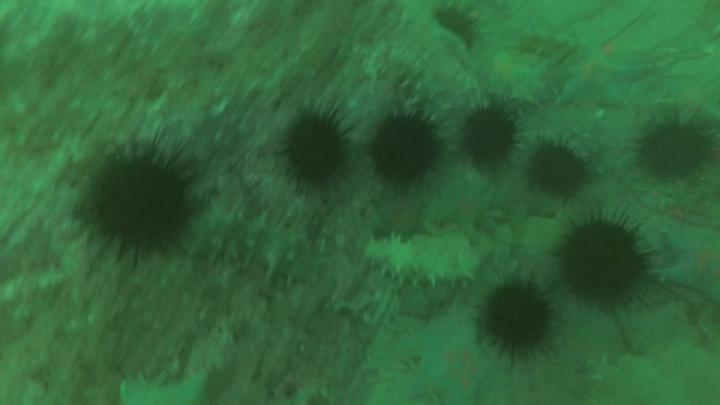echinus: (89, 154, 189, 257), (561, 219, 643, 303), (374, 114, 443, 185), (484, 283, 552, 351), (641, 118, 711, 179), (286, 119, 345, 184), (464, 108, 517, 163), (530, 143, 585, 194)
holothurian: (186, 204, 333, 282), (366, 236, 480, 285), (517, 23, 578, 63)
starfish: (414, 324, 503, 405), (557, 47, 649, 105), (661, 225, 720, 302), (491, 174, 552, 229), (485, 51, 543, 98), (436, 184, 493, 228), (372, 197, 425, 241)
